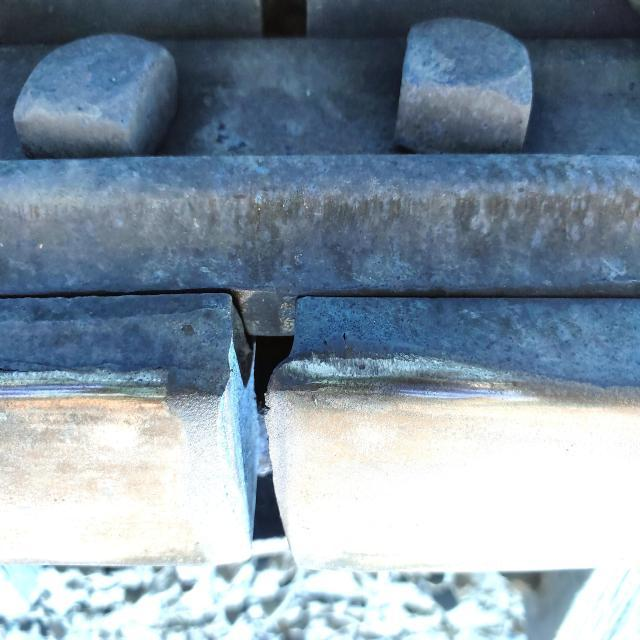railway_join_bar_defects_low: (210, 6, 328, 562)
